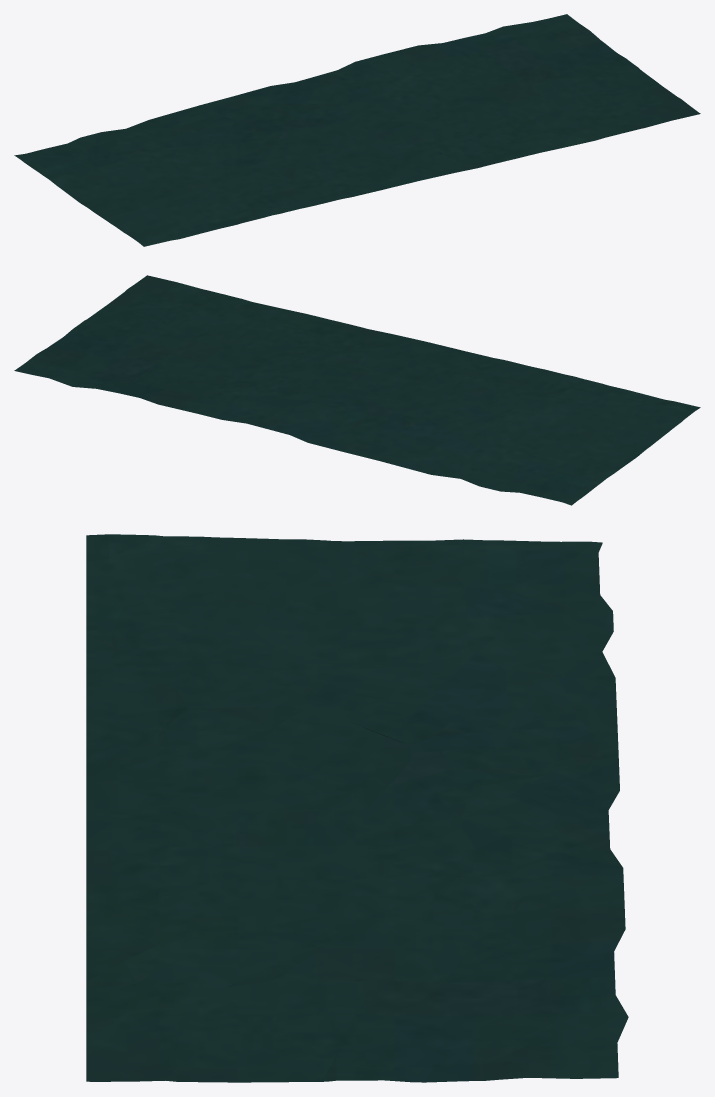
3 views of the same model, one above another, from view 1: azimuth 30°, elevation 25°; view 2: azimuth 150°, elevation 25°; view 3: azimuth 270°, elevation 25° (orthographic). The views are drawn at different scales.
Size of the model in its own units: 104 by 1.24 by 44.3.
1 material, 1 textured.
